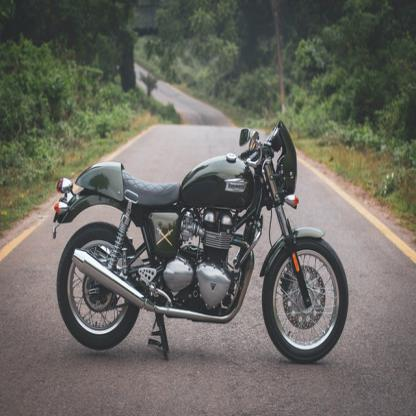motorcycle: (54, 121, 350, 364)
